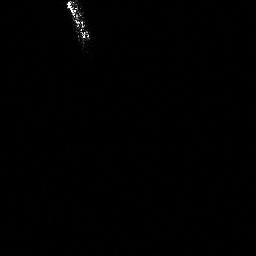ship: (63, 1, 92, 43)
